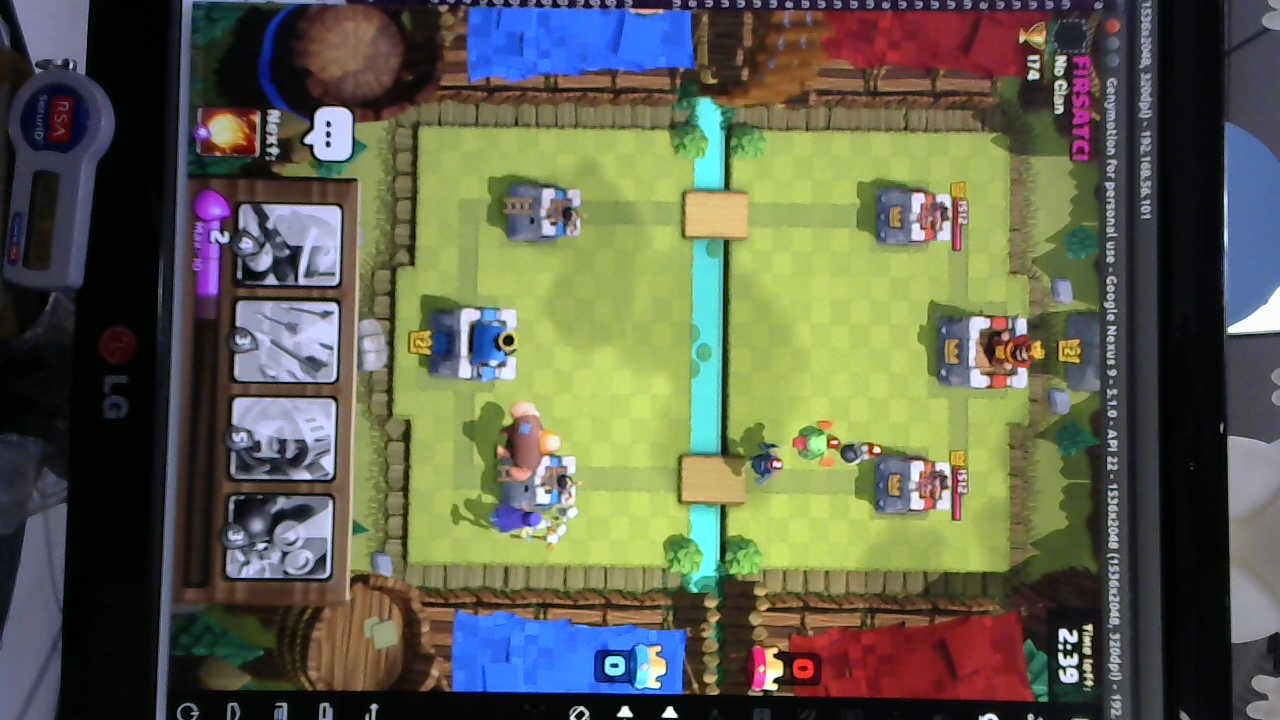arena: (500, 176, 587, 245), (500, 450, 581, 515)
bomb: (841, 433, 880, 468)
dragon: (796, 413, 840, 470)
earena: (872, 184, 953, 248), (874, 454, 953, 519)
eking: (935, 313, 1036, 394)
giant: (504, 403, 560, 481)
king: (433, 303, 527, 389)
minipekka: (742, 434, 787, 483)
skeleton: (543, 502, 580, 557)
witch: (478, 502, 546, 537)
